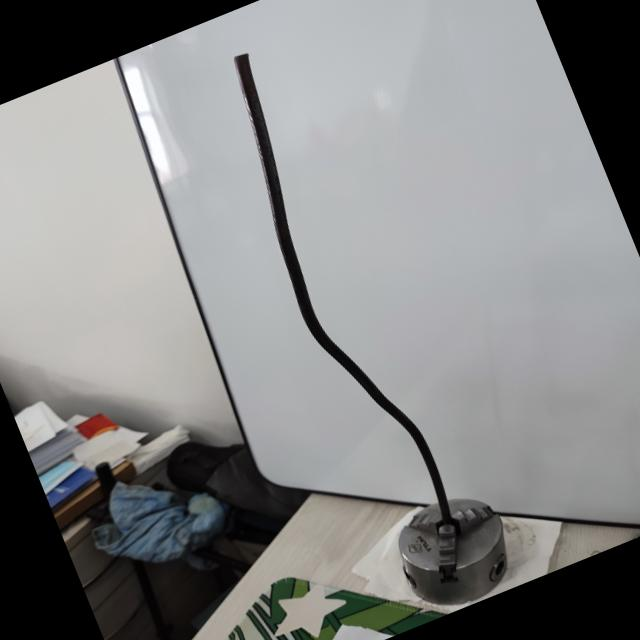plain round bar: (197, 24, 487, 542)
